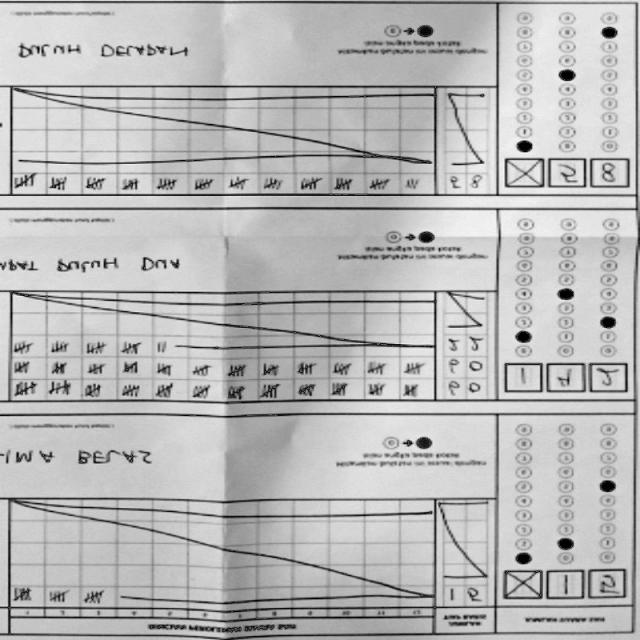Suara: (500, 157, 630, 197), (498, 568, 628, 606), (498, 362, 628, 398)
